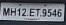character: (2, 6, 10, 16), (29, 7, 36, 16), (40, 8, 47, 17), (10, 6, 16, 16), (47, 7, 52, 17), (57, 7, 62, 17), (22, 7, 27, 16), (35, 7, 40, 16), (52, 8, 57, 17), (17, 7, 21, 17)
